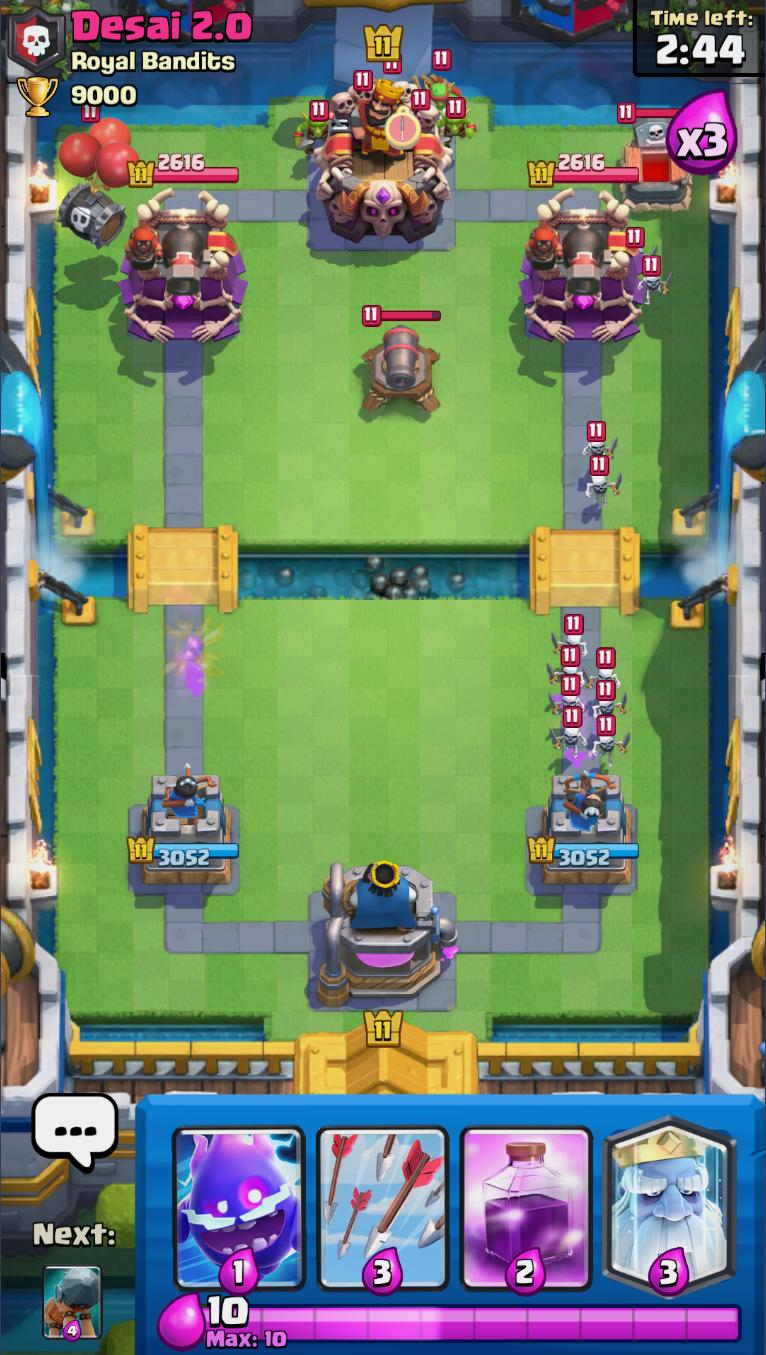ArrowDeck: (311, 1099, 454, 1293)
BattleRamNext: (41, 1263, 103, 1340)
Cannon: (360, 303, 443, 420)
Cannoneer: (524, 211, 610, 296), (124, 211, 207, 297)
ElectroSpiritDeck: (171, 1099, 310, 1294)
Elixir: (201, 1294, 746, 1349)
EnemyTower: (517, 184, 650, 344), (117, 187, 249, 343)
Goblin: (291, 99, 333, 159), (434, 97, 480, 150)
KingTower: (311, 77, 457, 246)
MyKingTower: (314, 857, 460, 1004)
MyPrincessTower: (527, 769, 643, 891), (126, 770, 241, 890)
MyPrincessTowerHP: (524, 831, 643, 871), (126, 831, 240, 870)
RageDeck: (454, 1099, 600, 1293)
RoyaleGhostDeck: (600, 1097, 740, 1293)
Skeleton: (589, 713, 630, 767), (548, 707, 590, 757), (583, 457, 623, 509), (581, 647, 623, 688), (549, 614, 593, 653), (640, 256, 674, 306), (590, 680, 627, 725), (546, 673, 583, 714), (583, 420, 620, 461), (544, 644, 577, 683)
SkeletonBarrel: (60, 100, 143, 251)
SpearGoblin: (416, 50, 466, 109)
Tombstone: (614, 101, 693, 214)
TowerPrincessHP: (526, 151, 641, 190), (124, 151, 240, 187)
